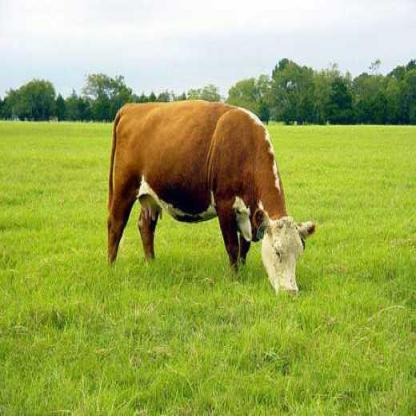cow: (106, 99, 316, 300)
